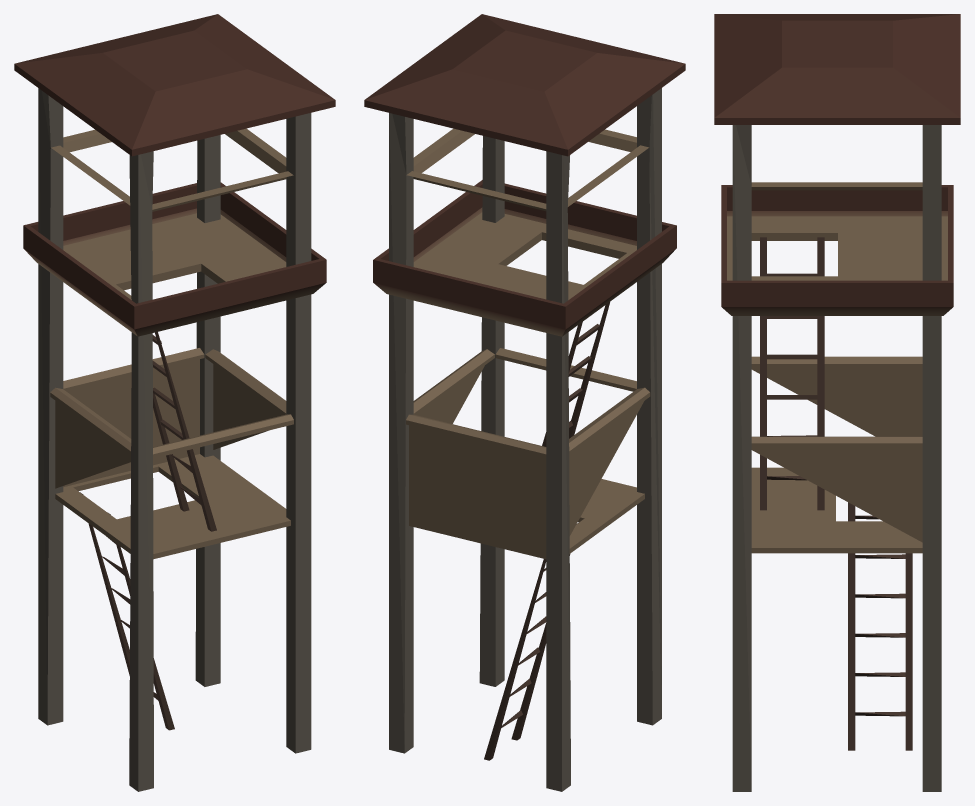
File: bridge-lookout.lod2.glb
3 views of the same model, side by side, from view 1: azimuth 30°, elevation 25°; view 2: azimuth 150°, elevation 25°; view 3: azimuth 270°, elevation 25° (orthographic). The views are drawn at different scales.
Parts seen in each view (by area): view 1: Object_4; view 2: Object_4; view 3: Object_4.
Boxes of the visible parts, <box> form: Object_4: <box>14,14,335,791</box>; Object_4: <box>364,14,685,791</box>; Object_4: <box>714,14,960,791</box>.
Size of the model in its own units: 2.19 by 6.91 by 2.19.
